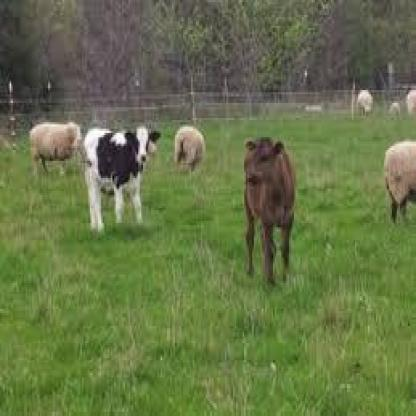cow: (244, 136, 296, 284), (82, 130, 157, 226), (30, 121, 80, 173), (387, 139, 416, 219), (173, 128, 208, 168), (357, 91, 375, 115), (406, 89, 416, 119), (386, 102, 403, 117)
